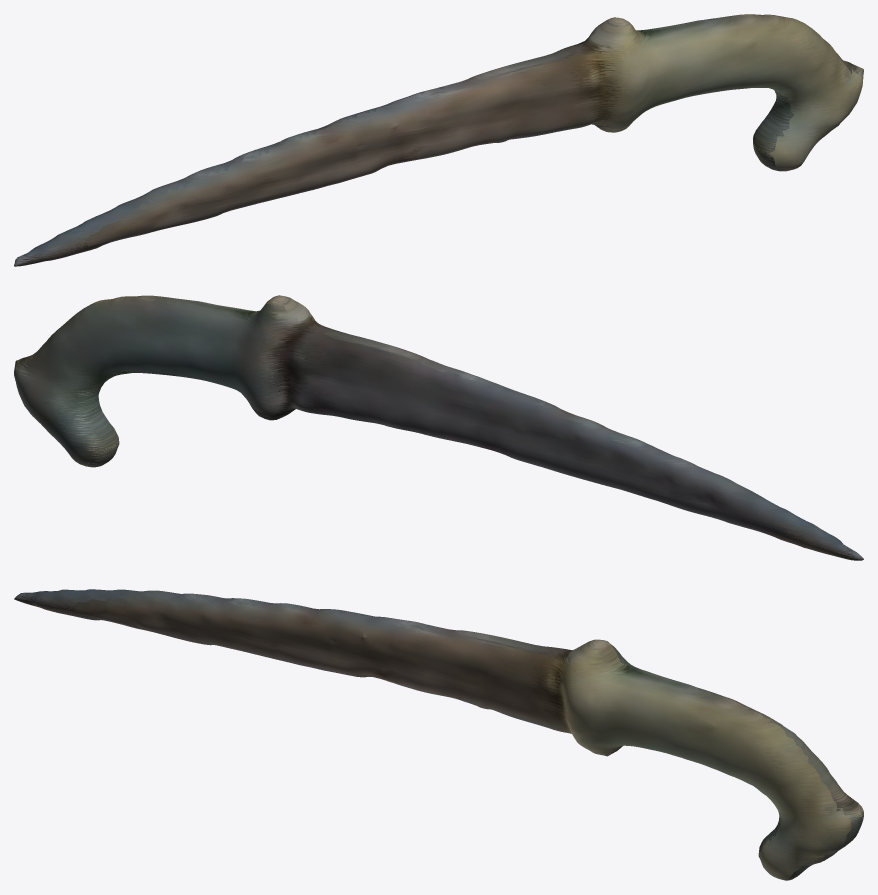
The model's file is kfl-2219.glb.
3 renders of one model, top to bottom at view 1: azimuth 30°, elevation 25°; view 2: azimuth 150°, elevation 25°; view 3: azimuth 330°, elevation 25°, orthographic.
Parts seen in each view (by area): view 1: geometry_0; view 2: geometry_0; view 3: geometry_0.
Part boxes in pixels (bbox=[...]): geometry_0: bbox=[14, 14, 863, 266]; geometry_0: bbox=[14, 295, 863, 560]; geometry_0: bbox=[14, 589, 863, 880].
Size of the model in its own units: 0.9874 by 0.2234 by 0.0952.
1 material, 1 textured.
